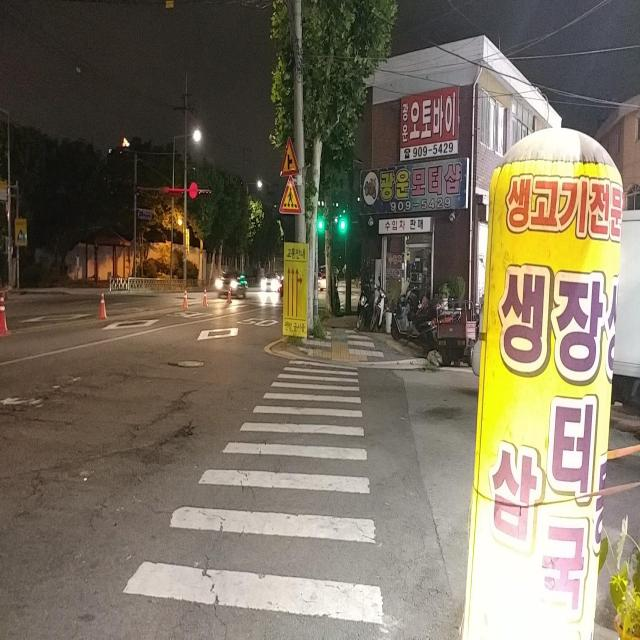횡단보도: (120, 357, 384, 628)
